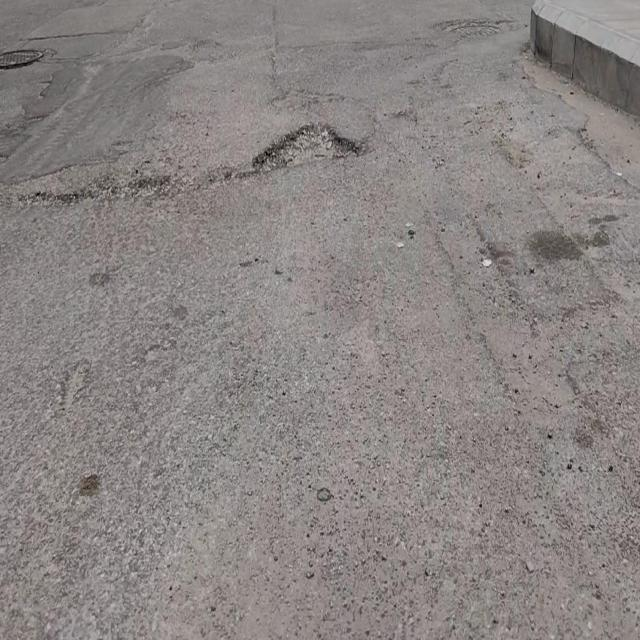Potholes: (259, 120, 357, 170)
